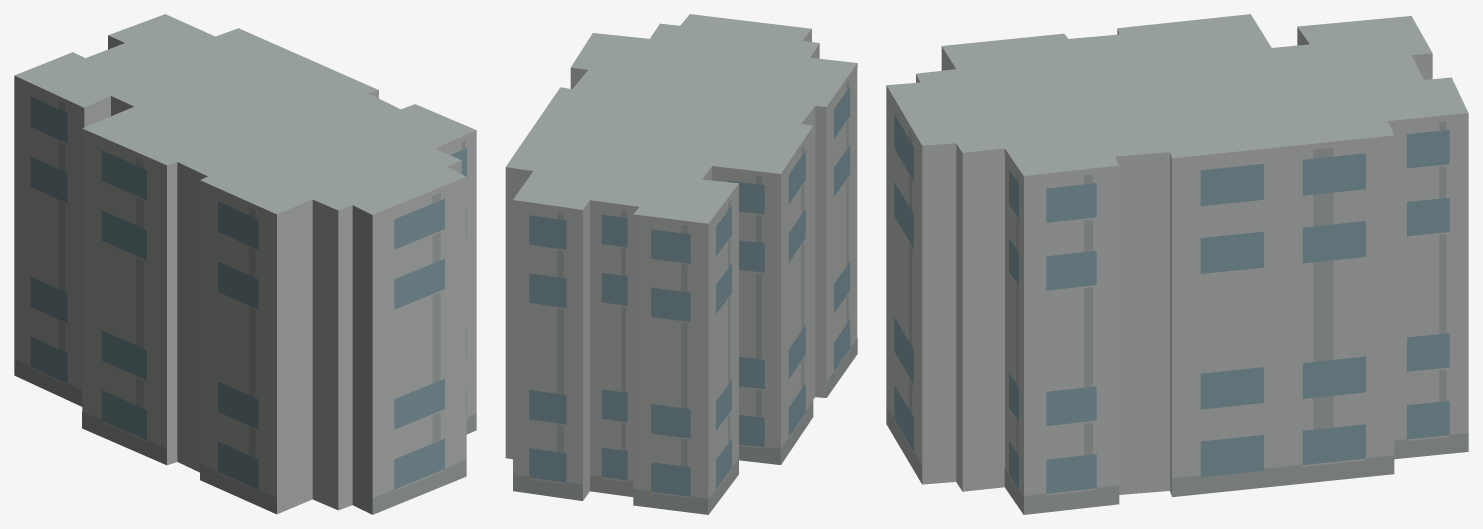
The model's file is survey-upis-32561549.glb.
3 views of the same model, side by side, from view 1: azimuth 30°, elevation 25°; view 2: azimuth 150°, elevation 25°; view 3: azimuth 270°, elevation 25° (orthographic). The views are drawn at different scales.
Parts seen in each view (by area): view 1: survey-upis-32561549.tmp; view 2: survey-upis-32561549.tmp; view 3: survey-upis-32561549.tmp.
Boxes of the visible parts, box(x1,y1,x2,y2) form: survey-upis-32561549.tmp: box(14, 14, 476, 514); survey-upis-32561549.tmp: box(505, 14, 857, 514); survey-upis-32561549.tmp: box(886, 14, 1468, 514).
Size of the model in its own units: 14.17 by 13.8 by 21.5.
